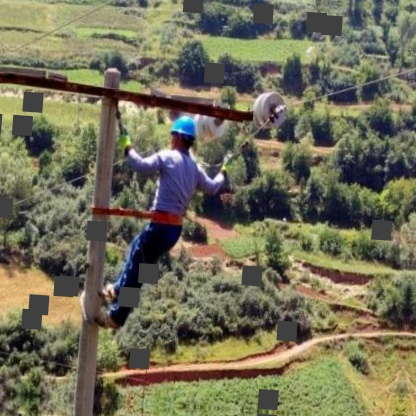blue: (168, 112, 204, 139)
